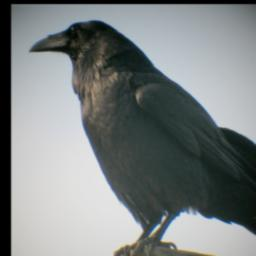Crow: (26, 15, 256, 256)
